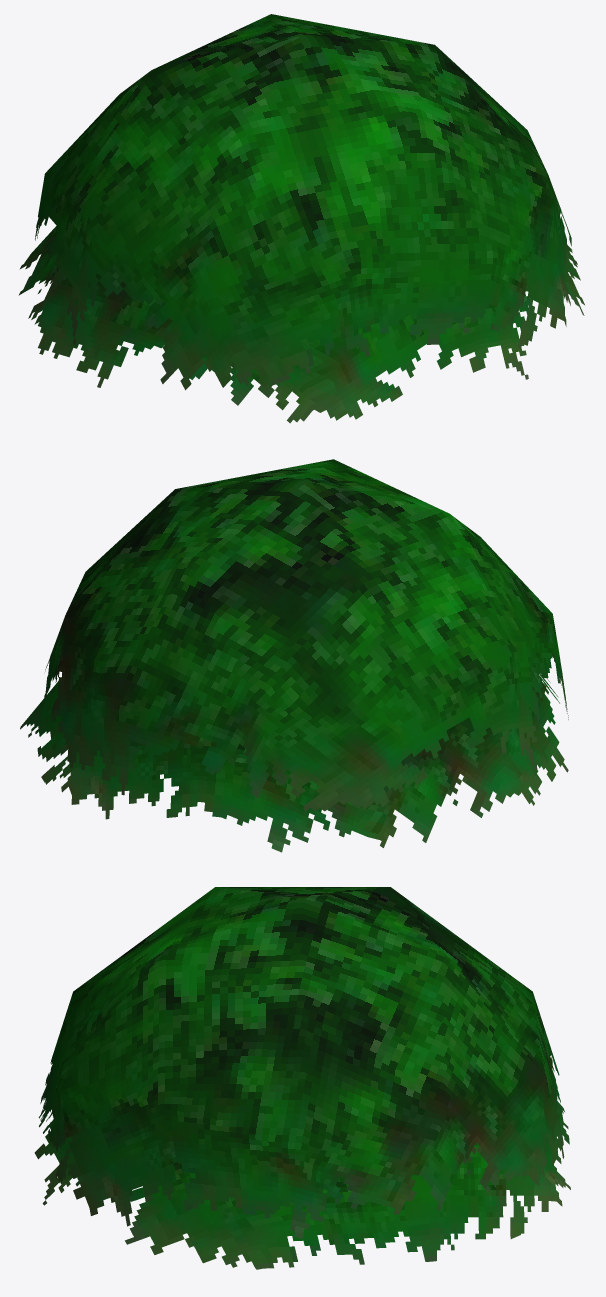
Rendered from Bush_00.glb.
The picture shows the model from 3 angles, top to bottom: view 1: azimuth 30°, elevation 25°; view 2: azimuth 150°, elevation 25°; view 3: azimuth 270°, elevation 25°; orthographic projection. The views are drawn at different scales.
Parts seen in each view (by area): view 1: Bush_00; view 2: Bush_00; view 3: Bush_00.
Boxes of the visible parts, x1=… form: Bush_00: x1=18, y1=14, x2=584, y2=423; Bush_00: x1=20, y1=459, x2=568, y2=852; Bush_00: x1=34, y1=887, x2=570, y2=1269.
Size of the model in its own units: 2 by 1 by 2.
1 material, 1 textured.
